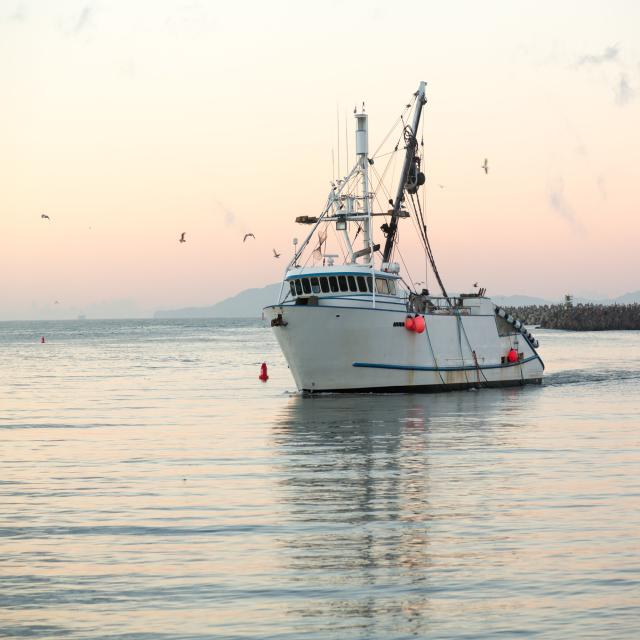Fishing Boat: (274, 68, 511, 411)
